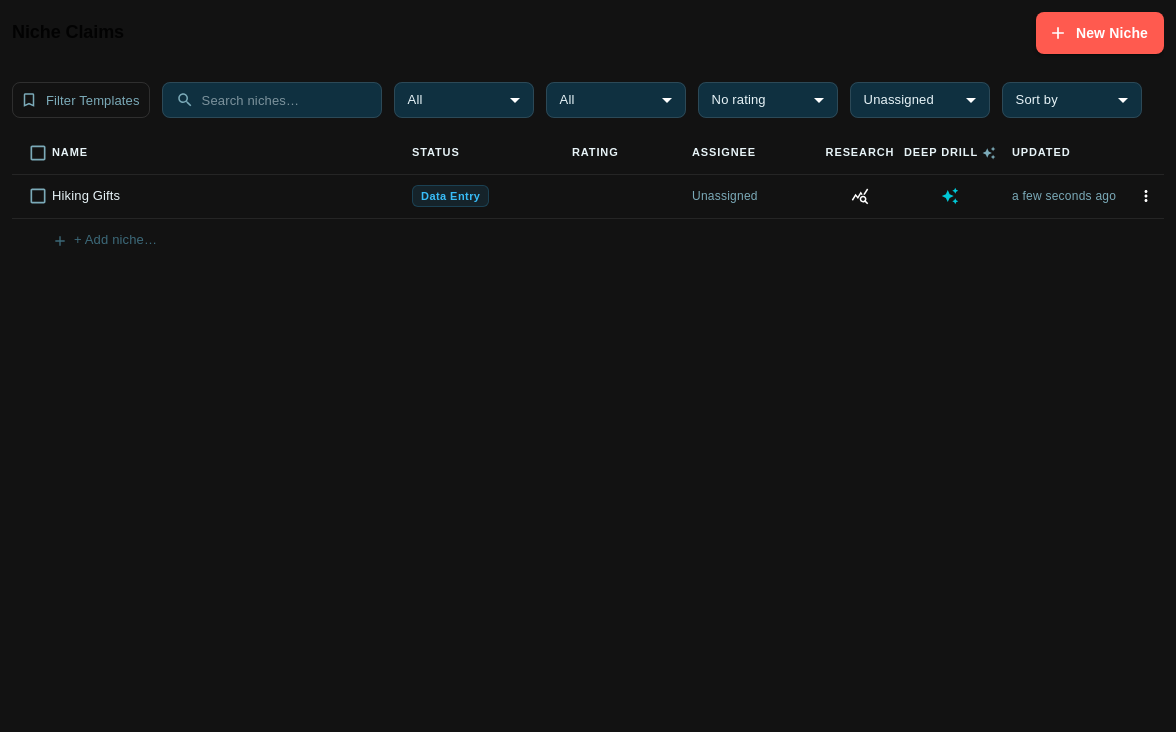
Scenario: NicheListView › BulkActionBar appears after selecting a niche
Click the checkbox named "select hiking gifts".
click(38, 196)  # box [28,186,48,206]
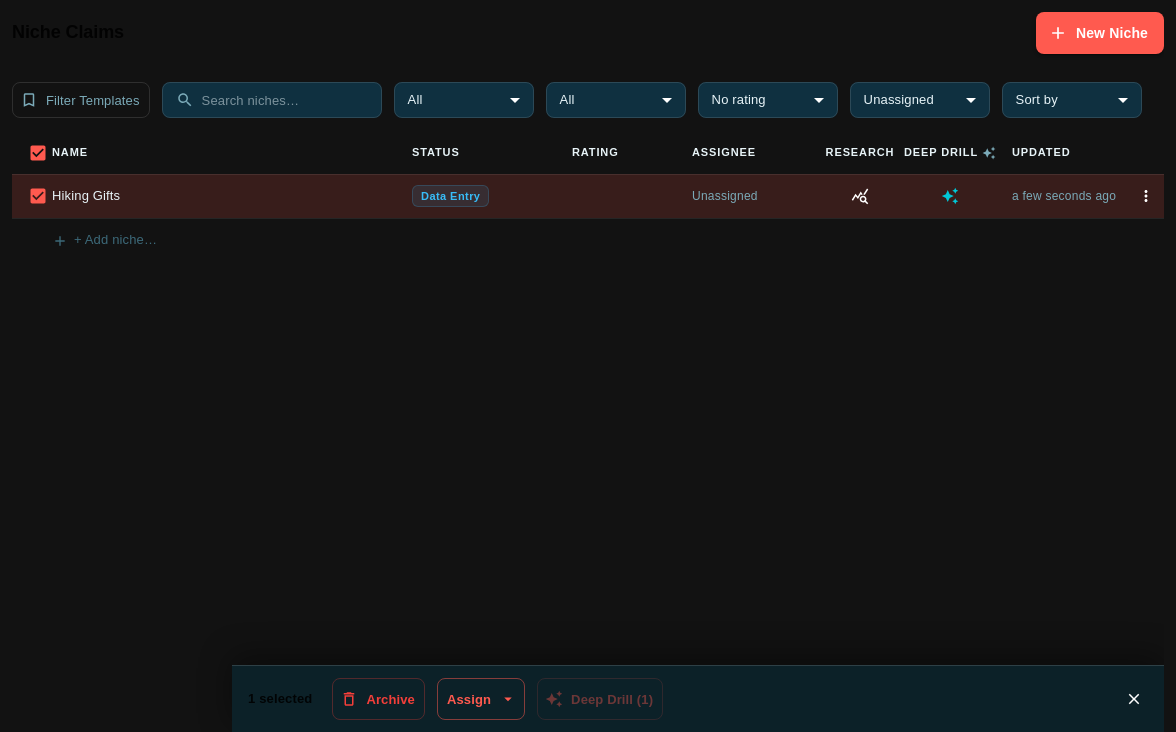
expect the text "1 selected" is shown: met, box [248,689,312,709]
expect the element named "bulk actions" is shown: met, box [232,665,1164,731]
